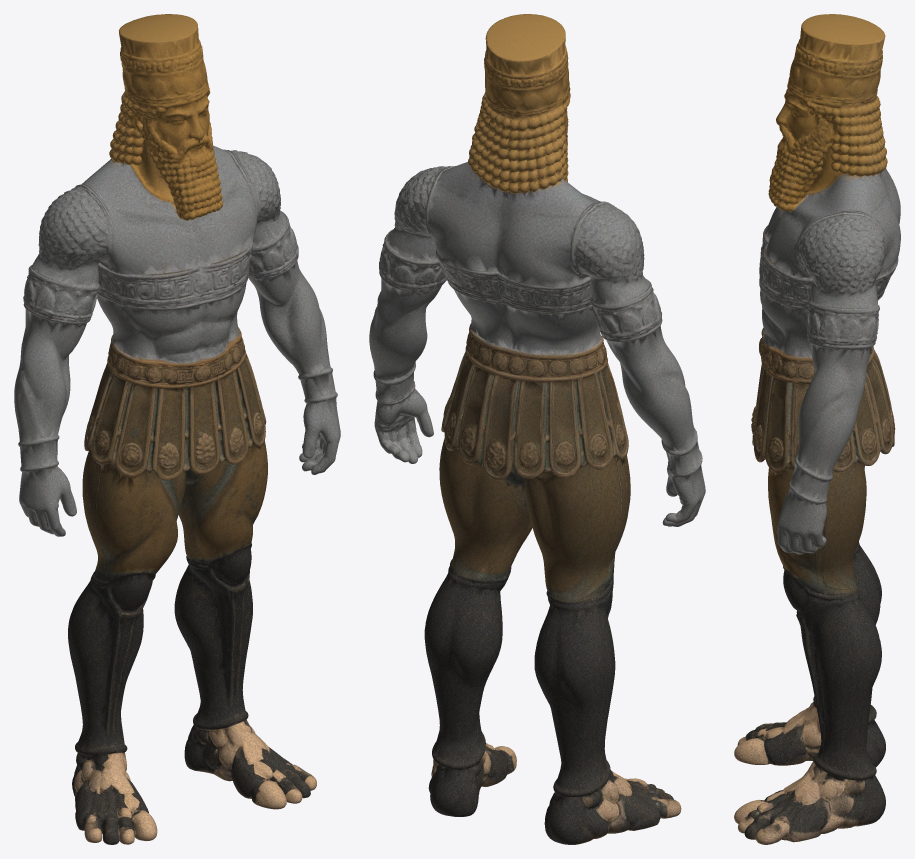
File: full_body.glb
3 renders of one model, left to right at view 1: azimuth 30°, elevation 25°; view 2: azimuth 150°, elevation 25°; view 3: azimuth 270°, elevation 25°, orthographic. The views are drawn at different scales.
Parts seen in each view (by area): view 1: mesh_node; view 2: mesh_node; view 3: mesh_node.
Boxes of the visible parts, x1,y1,x2,y2 form: mesh_node: (14,14,340,844); mesh_node: (369,14,705,844); mesh_node: (734,14,900,844).
Size of the model in its own units: 0.8147 by 1.9 by 0.3764.
1 material, 1 textured.
